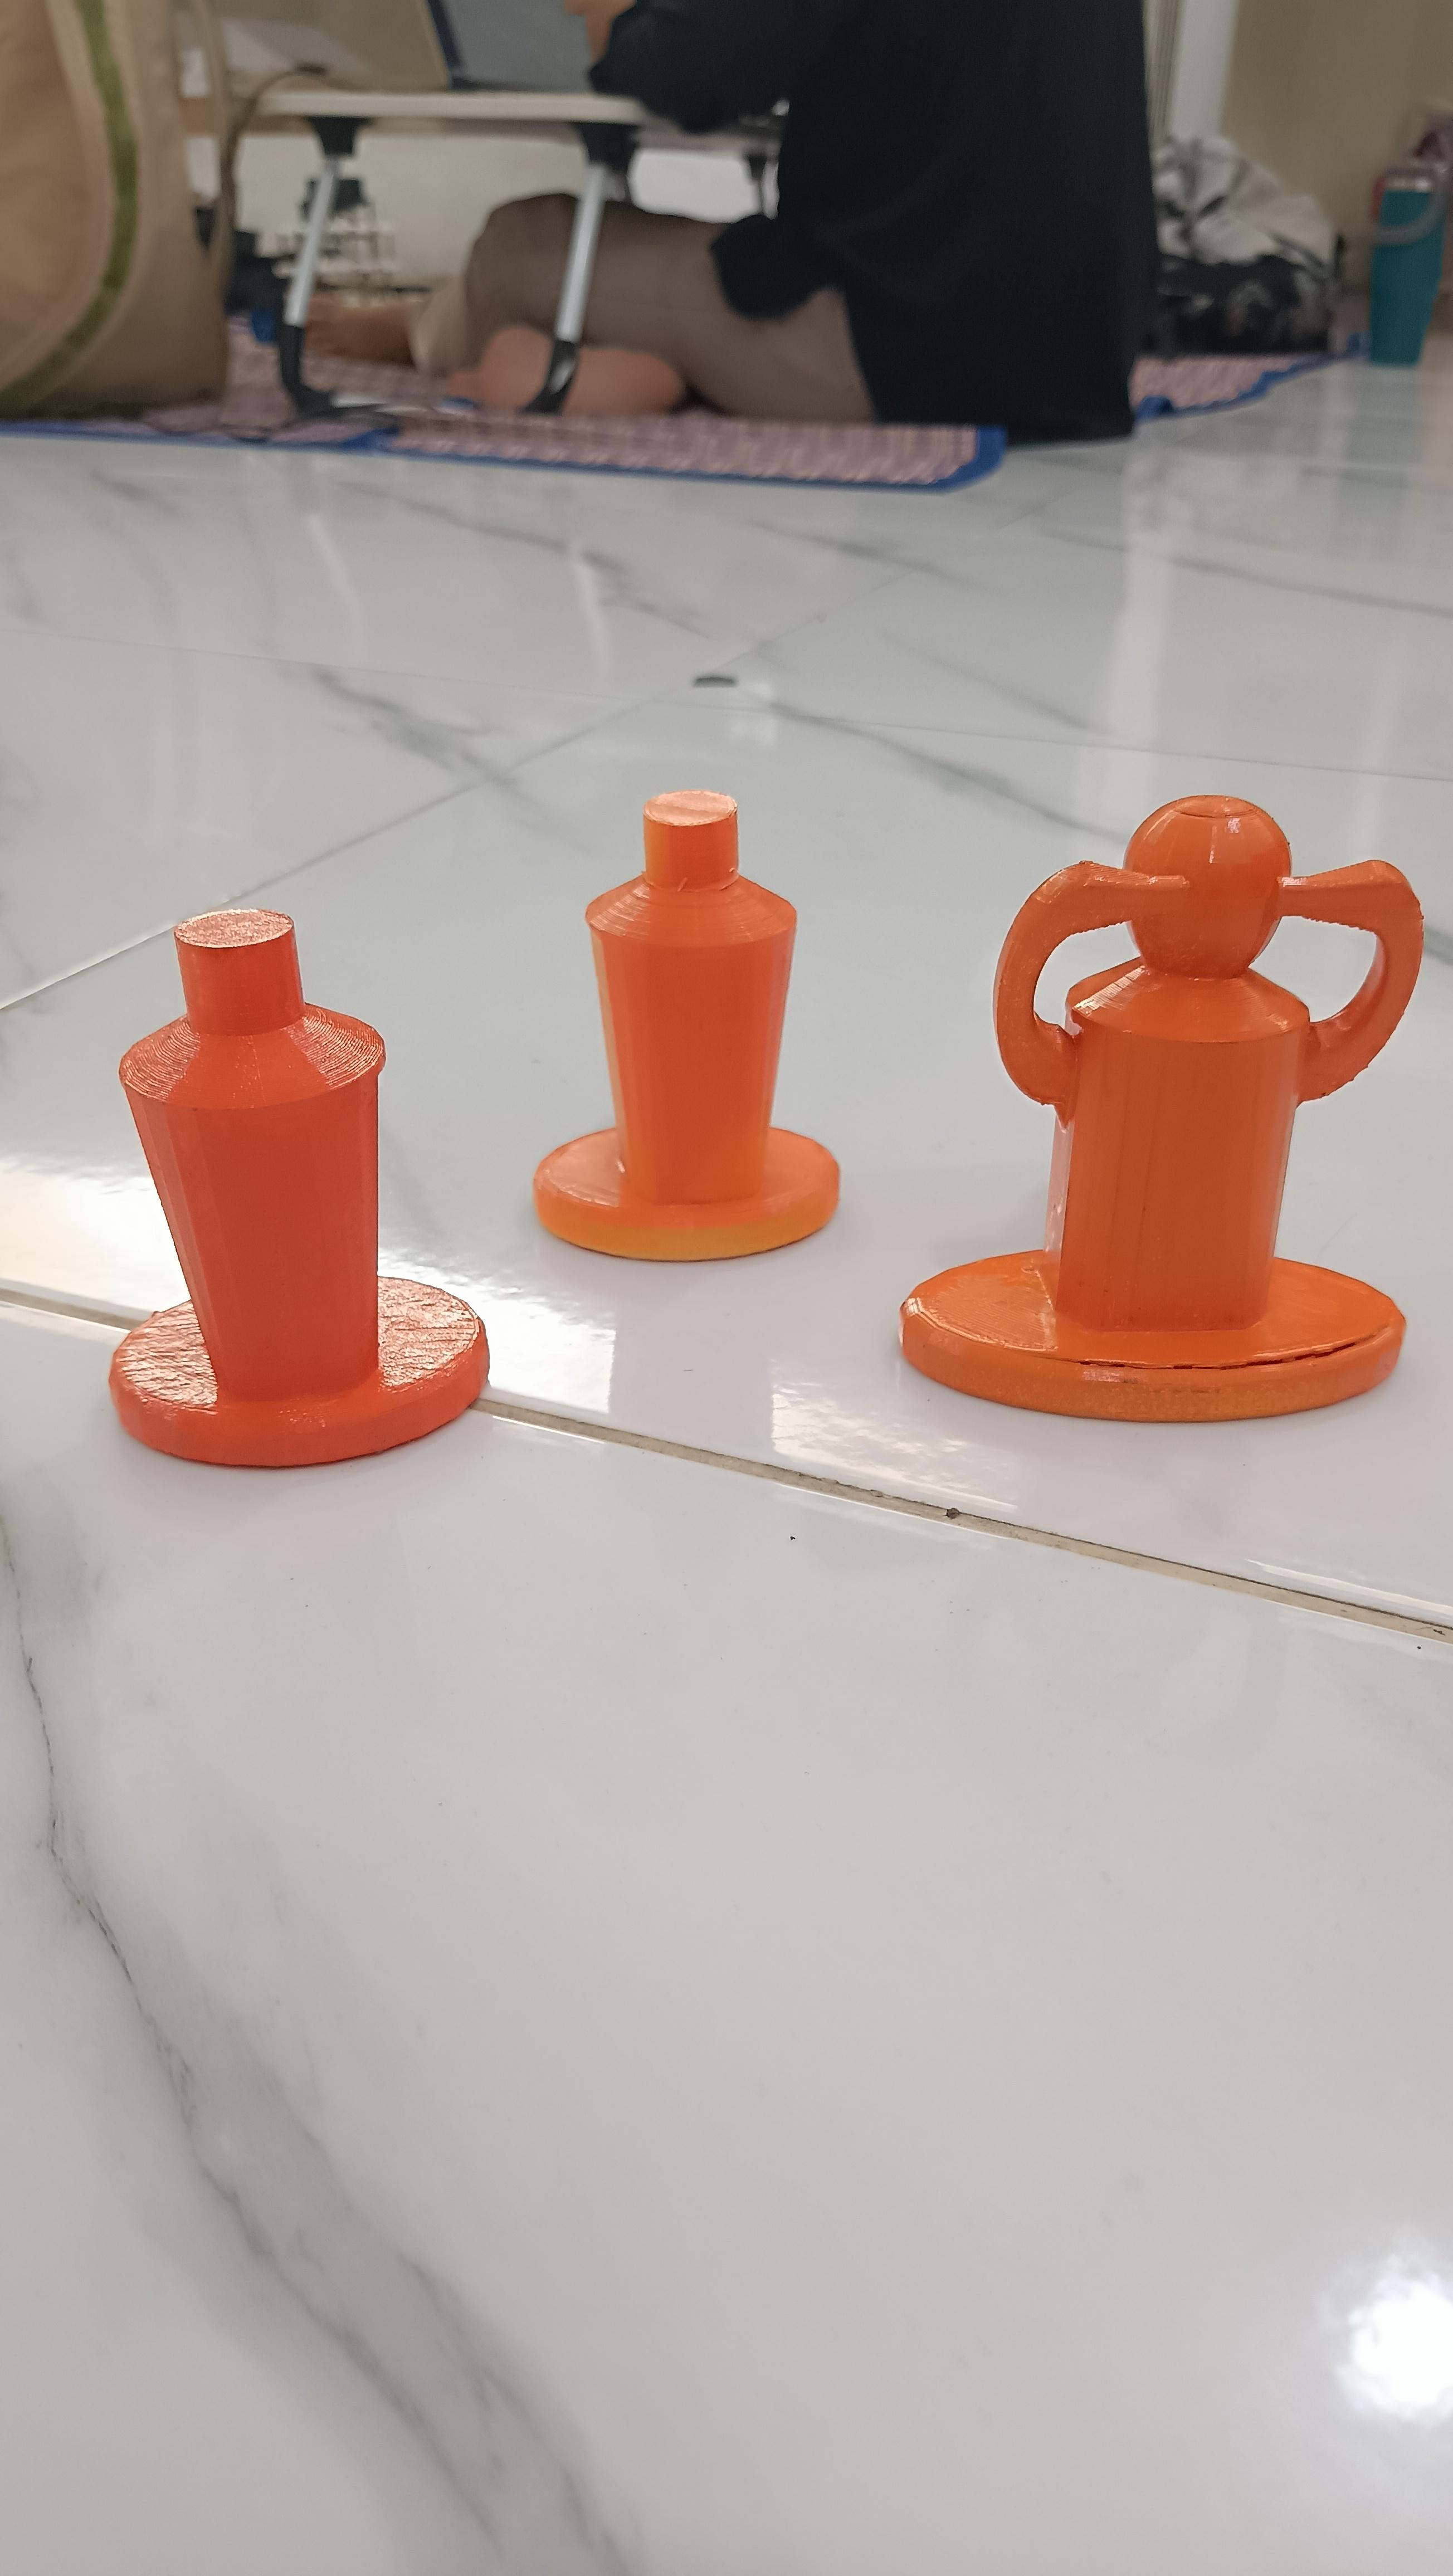dummy: (53, 883, 478, 1528), (487, 741, 855, 1304)
real_person: (877, 779, 1426, 1487)
